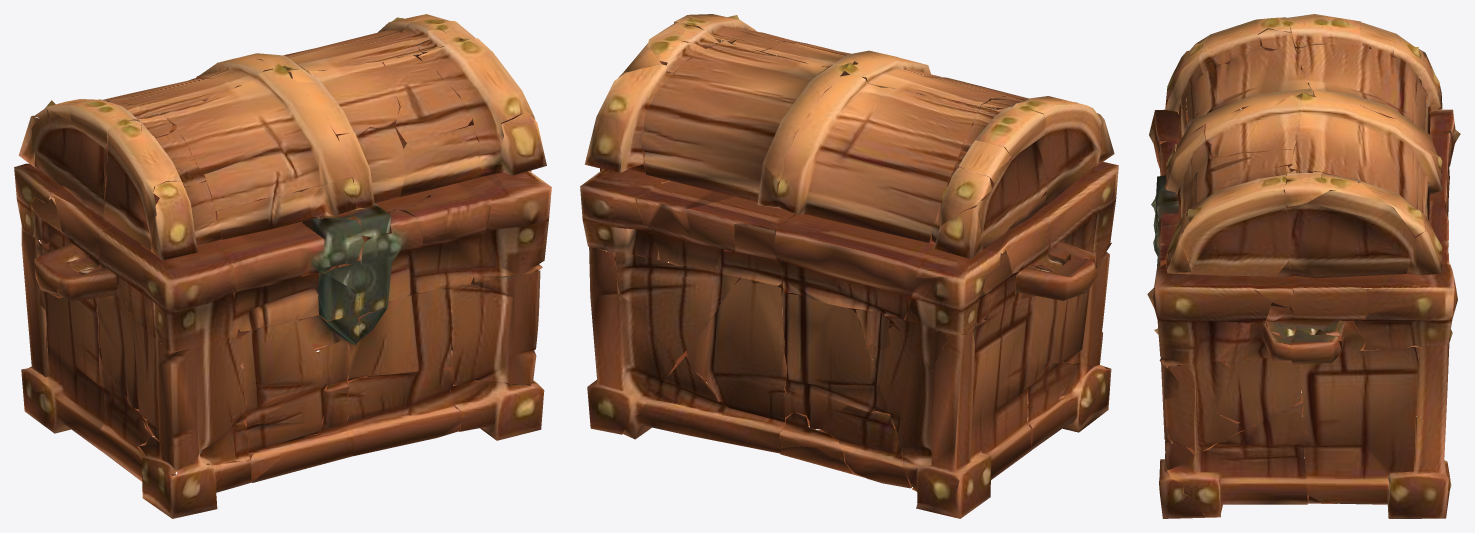
Rendered from chest.glb.
3 renders of one model, left to right at view 1: azimuth 30°, elevation 25°; view 2: azimuth 150°, elevation 25°; view 3: azimuth 270°, elevation 25°, orthographic. The views are drawn at different scales.
Parts seen in each view (by area): view 1: Mesh_0; view 2: Mesh_0; view 3: Mesh_0.
Part boxes in pixels (x1,y1,x2,y2): Mesh_0: [14, 14, 551, 518]; Mesh_0: [580, 14, 1118, 518]; Mesh_0: [1147, 14, 1460, 518].
Bounding box in the file's own units: 1.91 × 1.35 × 1.12.
1 material, 1 textured.
